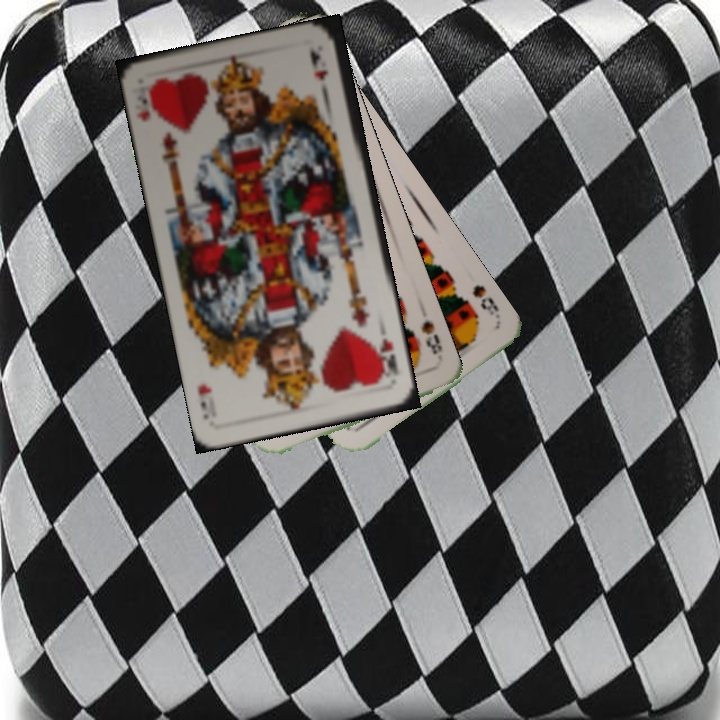HK: (371, 334, 401, 381), (133, 80, 153, 124)
S8: (468, 280, 503, 331), (417, 316, 445, 357)
